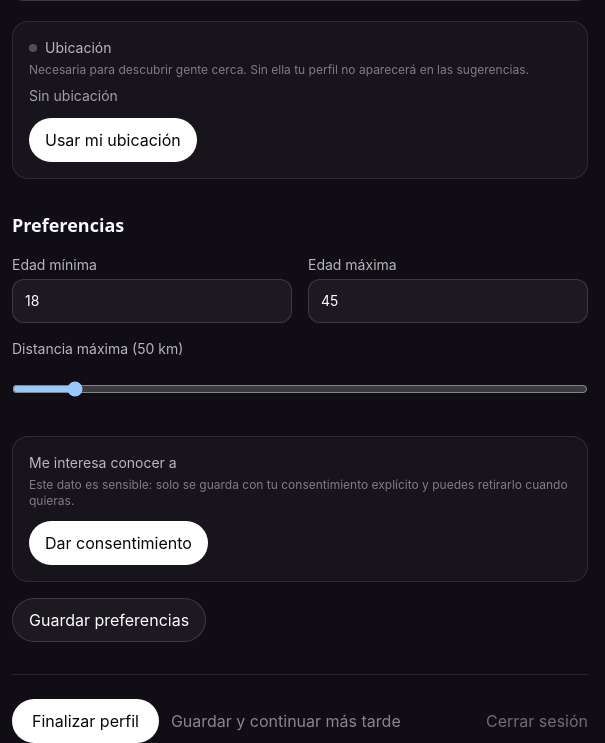
Test: ProfileEditor › shows a friendly message when onboarding is incomplete
(page scrolled)
Step 1. Click the button "Finalizar perfil" → (85, 721), box [12,699,159,742]
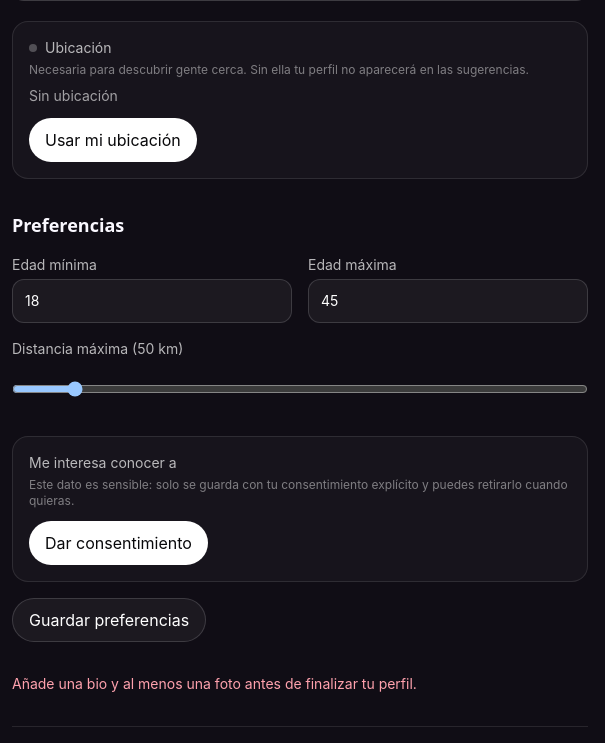
Expected: the text "Añade una bio y al menos una foto" is shown, [12,675,417,692]
